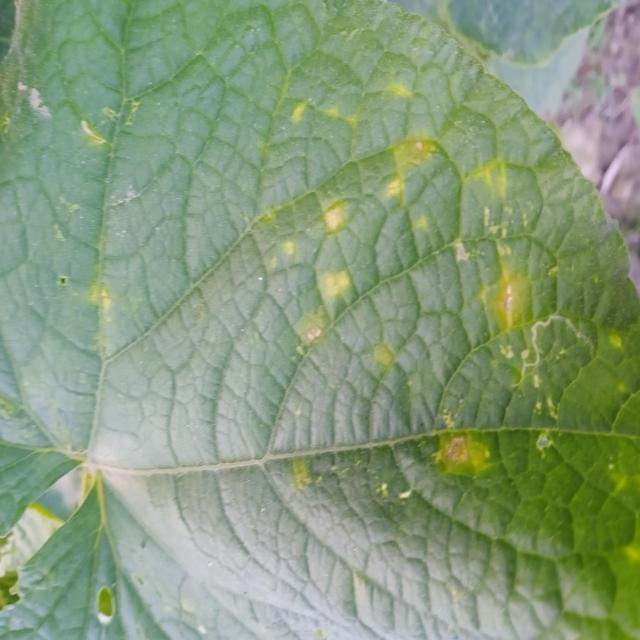cucumber_downy: (0, 2, 636, 636)
